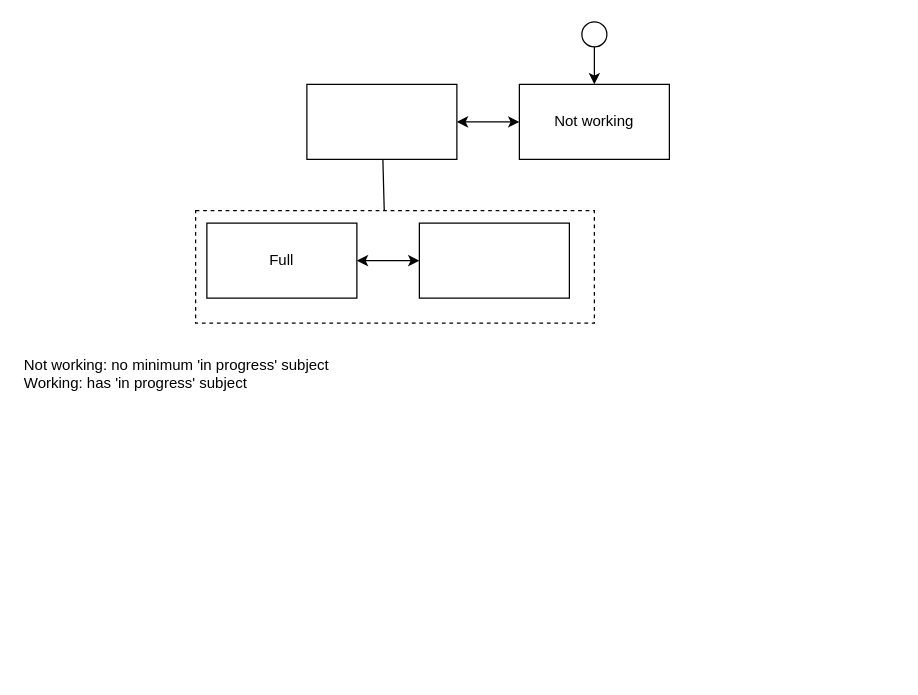
Image size: 918x695. Some labels were removed from this diagram. Here are the shapes that lost their labels. From the top down, the centre of each, then its label:
At point (381, 121): "Working".
At point (493, 260): "Not full".
